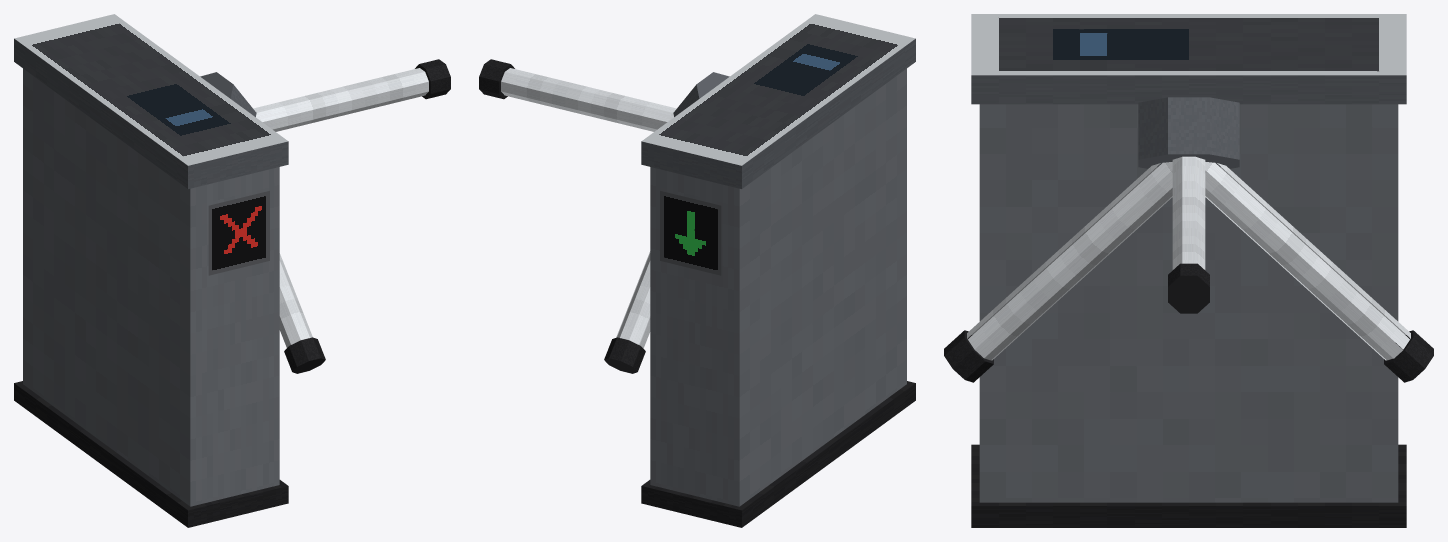
Rendered from turnstile_rest_green.obj.
3 views of the same model, side by side, from view 1: azimuth 30°, elevation 25°; view 2: azimuth 150°, elevation 25°; view 3: azimuth 270°, elevation 25° (orthographic). The views are drawn at different scales.
Visible parts, largest first — view 1: turnstile_rest_green; view 2: turnstile_rest_green; view 3: turnstile_rest_green.
Part boxes in pixels (box(x1,y1,x2,y2)): turnstile_rest_green: box(14, 14, 450, 527); turnstile_rest_green: box(479, 14, 915, 527); turnstile_rest_green: box(944, 14, 1433, 527).
Size of the model in its own units: 0.9558 by 0.9688 by 0.9499.
